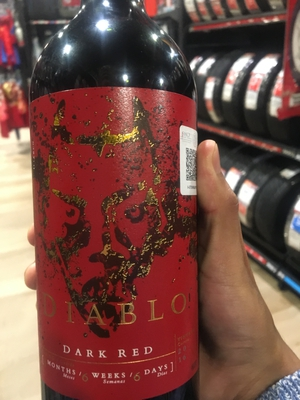diablo dark red: (27, 19, 212, 392)
